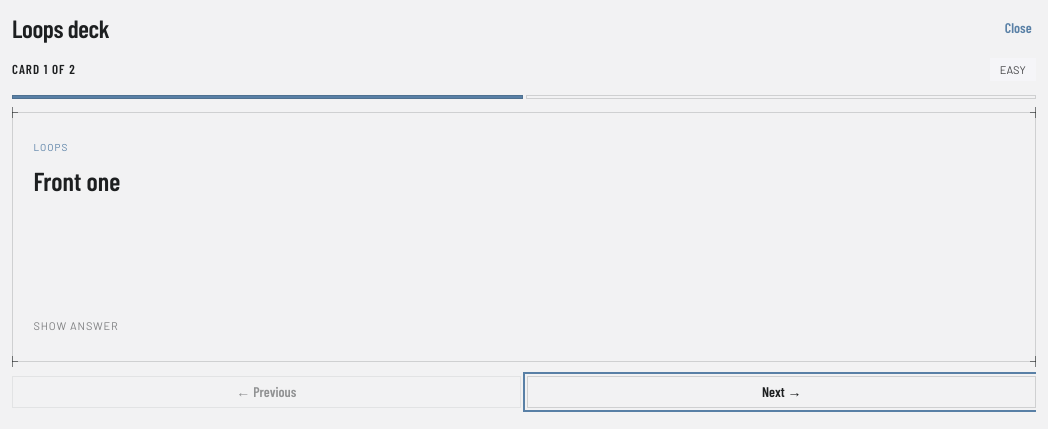
Test: keeps focus in the review when Next reaches the last card and is disabled
Click the button "Next →": (782, 392) [527,376,1036,408]
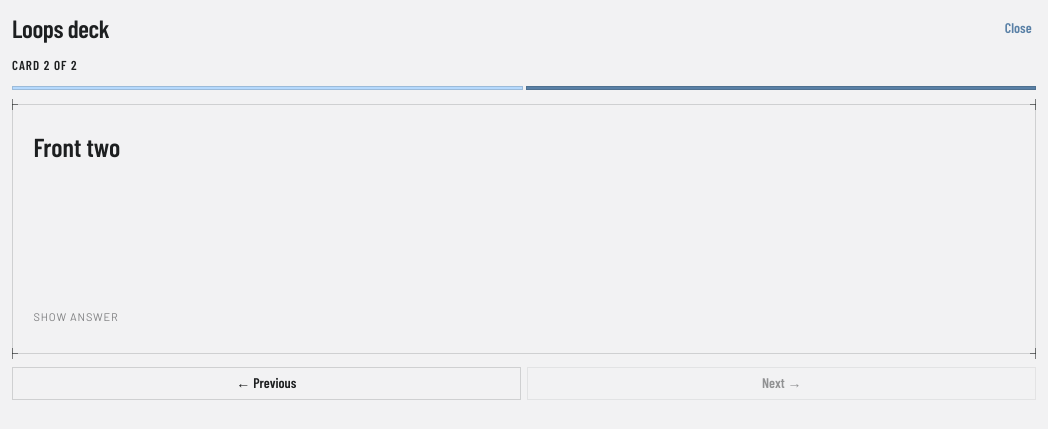
Expected: the button "Next →" is disabled, [527,367,1036,400]
